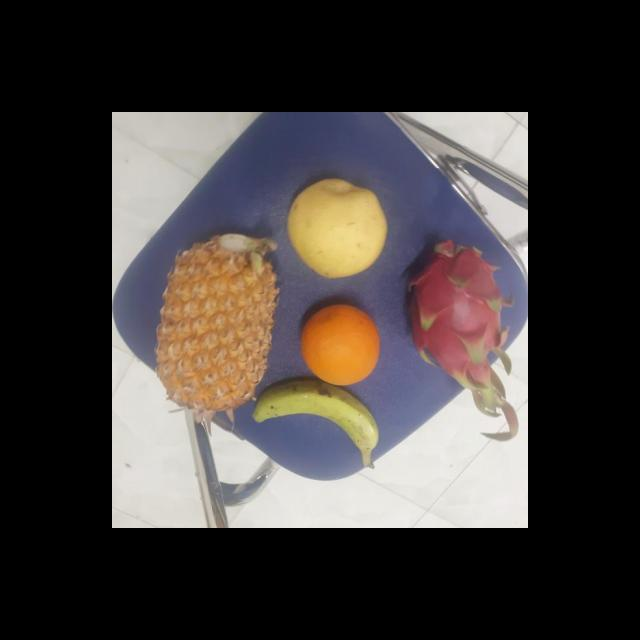banana: (249, 379, 375, 477)
orange: (296, 305, 382, 384)
pear: (280, 178, 386, 278)
pineapple: (152, 234, 279, 406)
pitaya: (398, 239, 511, 387)
